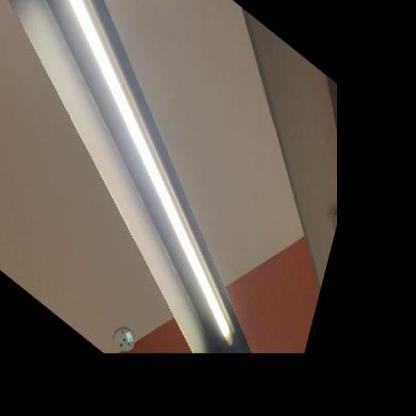light_on: (0, 0, 297, 369), (228, 359, 293, 415)
